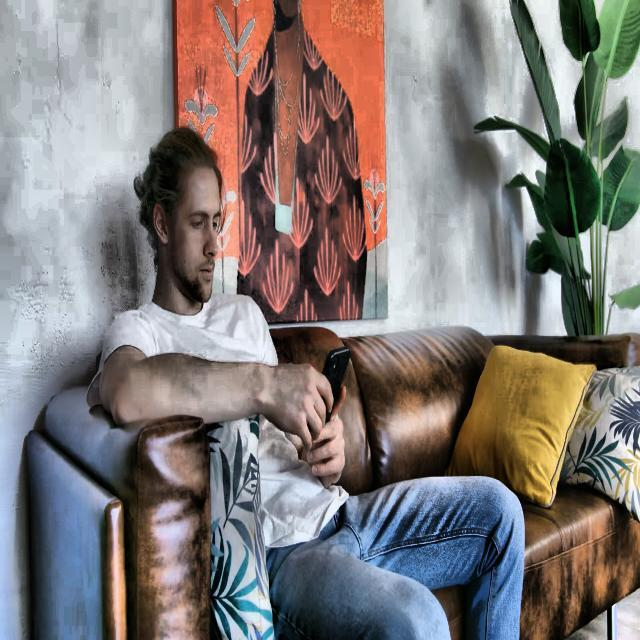Phone: (302, 345, 352, 453)
